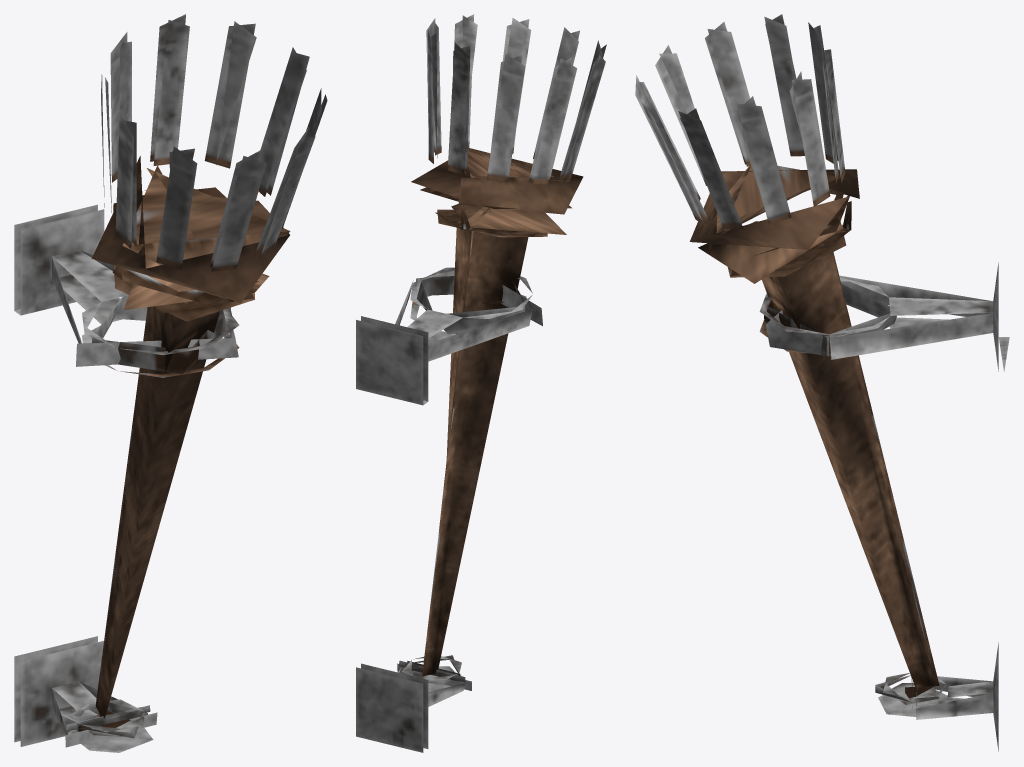
File: torch.glb
3 renders of one model, left to right at view 1: azimuth 30°, elevation 25°; view 2: azimuth 150°, elevation 25°; view 3: azimuth 270°, elevation 25°, orthographic. The views are drawn at different scales.
Visible parts, largest first — view 1: coffin___graves:Torch_low_coffin___graves:StingrayPBS1_0, coffin___graves:Torch_base_low_coffin___graves:StingrayPBS1_; view 2: coffin___graves:Torch_low_coffin___graves:StingrayPBS1_0, coffin___graves:Torch_base_low_coffin___graves:StingrayPBS1_; view 3: coffin___graves:Torch_low_coffin___graves:StingrayPBS1_0, coffin___graves:Torch_base_low_coffin___graves:StingrayPBS1_.
Boxes of the visible parts, x1=… form: coffin___graves:Torch_low_coffin___graves:StingrayPBS1_0: x1=92, y1=14, x2=327, y2=727; coffin___graves:Torch_base_low_coffin___graves:StingrayPBS1_: x1=14, y1=204, x2=239, y2=752; coffin___graves:Torch_low_coffin___graves:StingrayPBS1_0: x1=411, y1=14, x2=606, y2=676; coffin___graves:Torch_base_low_coffin___graves:StingrayPBS1_: x1=356, y1=267, x2=542, y2=752; coffin___graves:Torch_low_coffin___graves:StingrayPBS1_0: x1=635, y1=14, x2=939, y2=699; coffin___graves:Torch_base_low_coffin___graves:StingrayPBS1_: x1=759, y1=262, x2=1009, y2=751.
Bounding box in the file's own units: 5.91 × 22.63 × 11.04.
1 material, 1 textured.
